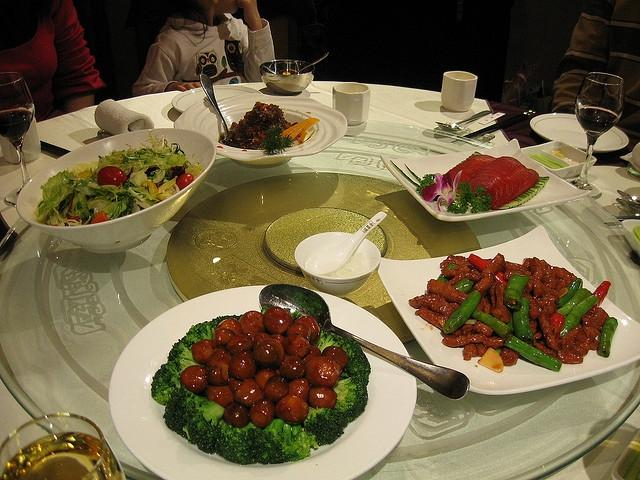broccoli: (163, 385, 225, 454), (252, 418, 318, 464), (215, 420, 262, 464), (332, 372, 369, 424), (304, 406, 348, 446), (151, 360, 181, 405), (186, 321, 213, 350), (341, 354, 371, 380), (169, 338, 197, 363), (314, 324, 332, 350), (321, 331, 341, 354), (212, 314, 243, 328), (284, 308, 304, 321), (260, 304, 274, 314)
tomato: (304, 356, 342, 388), (275, 393, 309, 424), (252, 338, 284, 370), (228, 350, 257, 381), (238, 310, 266, 342), (262, 306, 292, 334), (180, 366, 209, 394), (294, 316, 320, 346), (249, 399, 275, 428), (263, 375, 289, 403), (308, 386, 338, 409), (279, 356, 306, 380), (97, 166, 127, 187), (322, 346, 348, 370), (226, 334, 253, 356), (207, 346, 231, 370), (192, 340, 214, 366), (255, 368, 279, 391), (288, 378, 310, 402), (286, 323, 312, 343), (215, 318, 242, 335), (176, 174, 194, 190), (91, 210, 109, 224), (68, 216, 80, 222)
